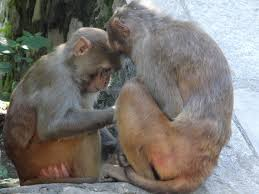monkey: (98, 8, 252, 193), (34, 23, 121, 193)
